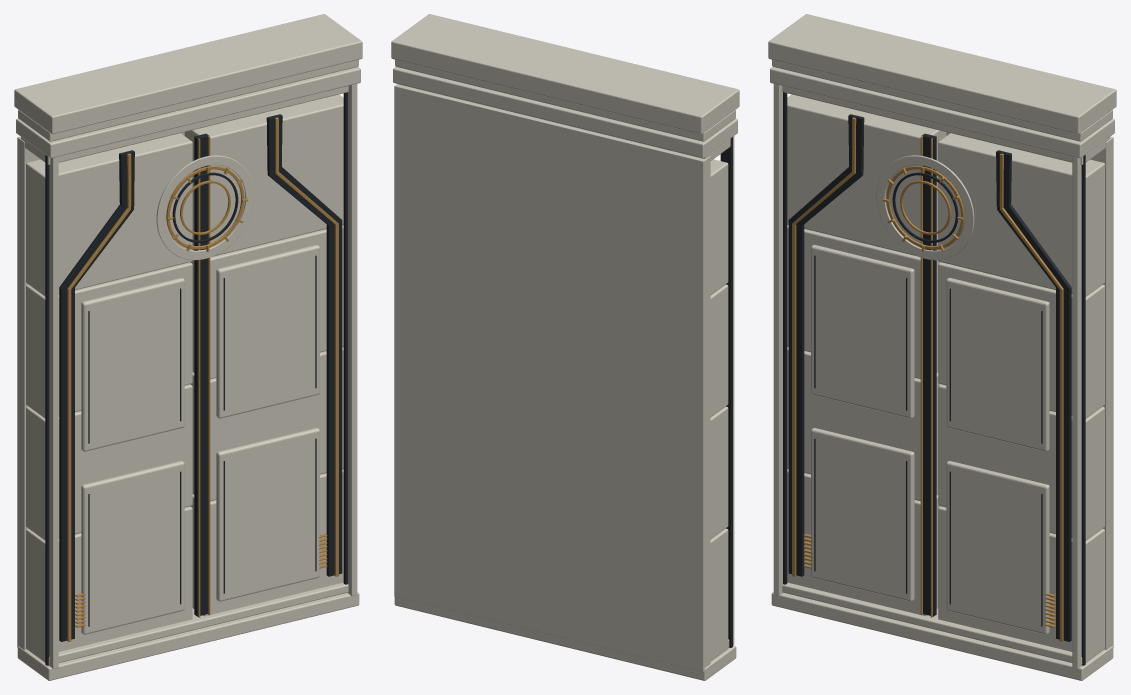
File: SM_Aurelion_KIT_WallBay_4x7.fbx
3 views of the same model, side by side, from view 1: azimuth 30°, elevation 25°; view 2: azimuth 150°, elevation 25°; view 3: azimuth 330°, elevation 25° (orthographic).
Visible parts, largest first — view 1: SM_Aurelion_KIT_WallBay_4x7; view 2: SM_Aurelion_KIT_WallBay_4x7; view 3: SM_Aurelion_KIT_WallBay_4x7.
Boxes of the visible parts, <box> form: SM_Aurelion_KIT_WallBay_4x7: <box>14,14,362,680</box>; SM_Aurelion_KIT_WallBay_4x7: <box>391,14,739,680</box>; SM_Aurelion_KIT_WallBay_4x7: <box>768,14,1116,680</box>.
Bounding box in the file's own units: 400 × 86.9 × 697.
